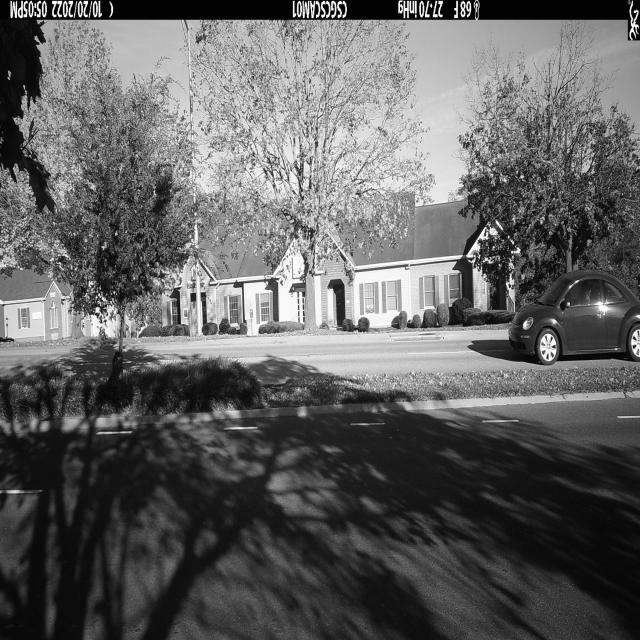Hatchback: (508, 271, 640, 366)
